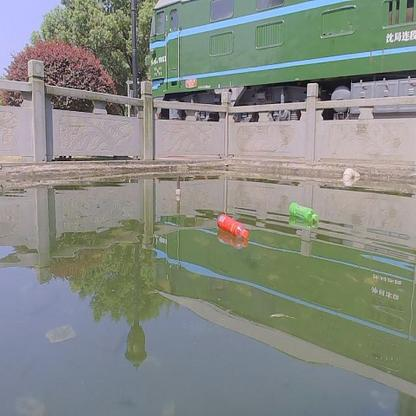plastic bottle: (216, 214, 249, 239), (289, 201, 318, 223)
